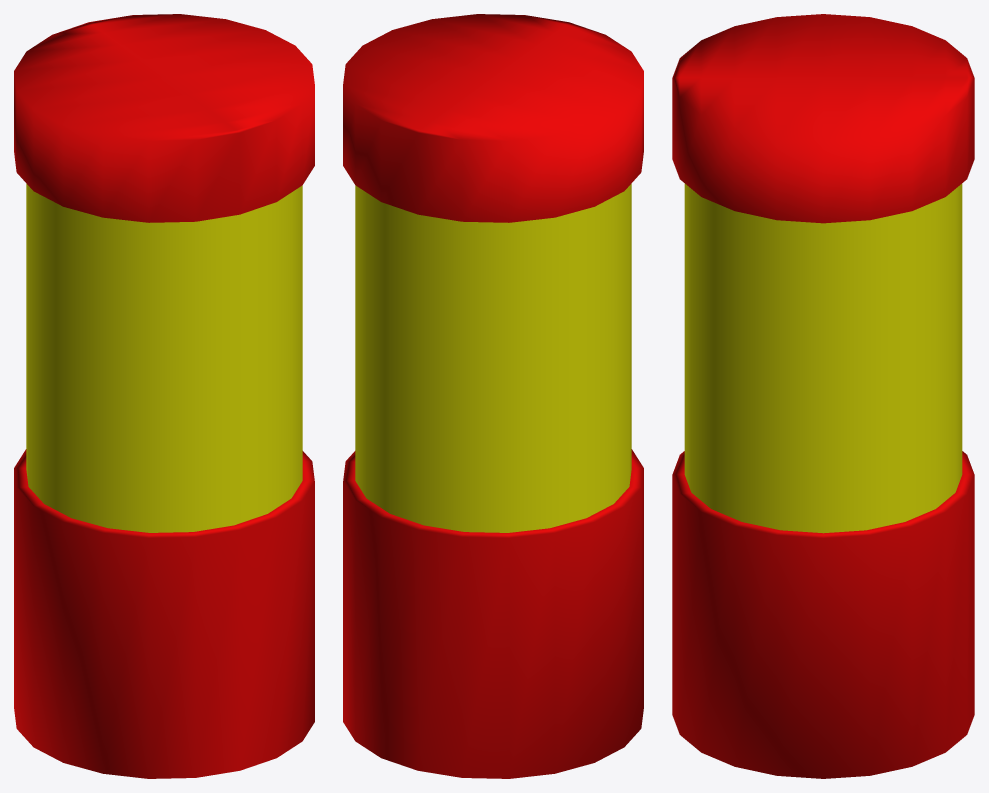
Rendered from roundtank.fbx.
The picture shows the model from 3 angles, left to right: view 1: azimuth 30°, elevation 25°; view 2: azimuth 150°, elevation 25°; view 3: azimuth 270°, elevation 25°; orthographic projection.
Parts seen in each view (by area): view 1: round; view 2: round; view 3: round.
Boxes of the visible parts, x1,y1,x2,y2 form: round: [14, 14, 314, 778]; round: [343, 14, 643, 778]; round: [672, 14, 974, 778].
Size of the model in its own units: 2.18 by 5.06 by 2.18.
